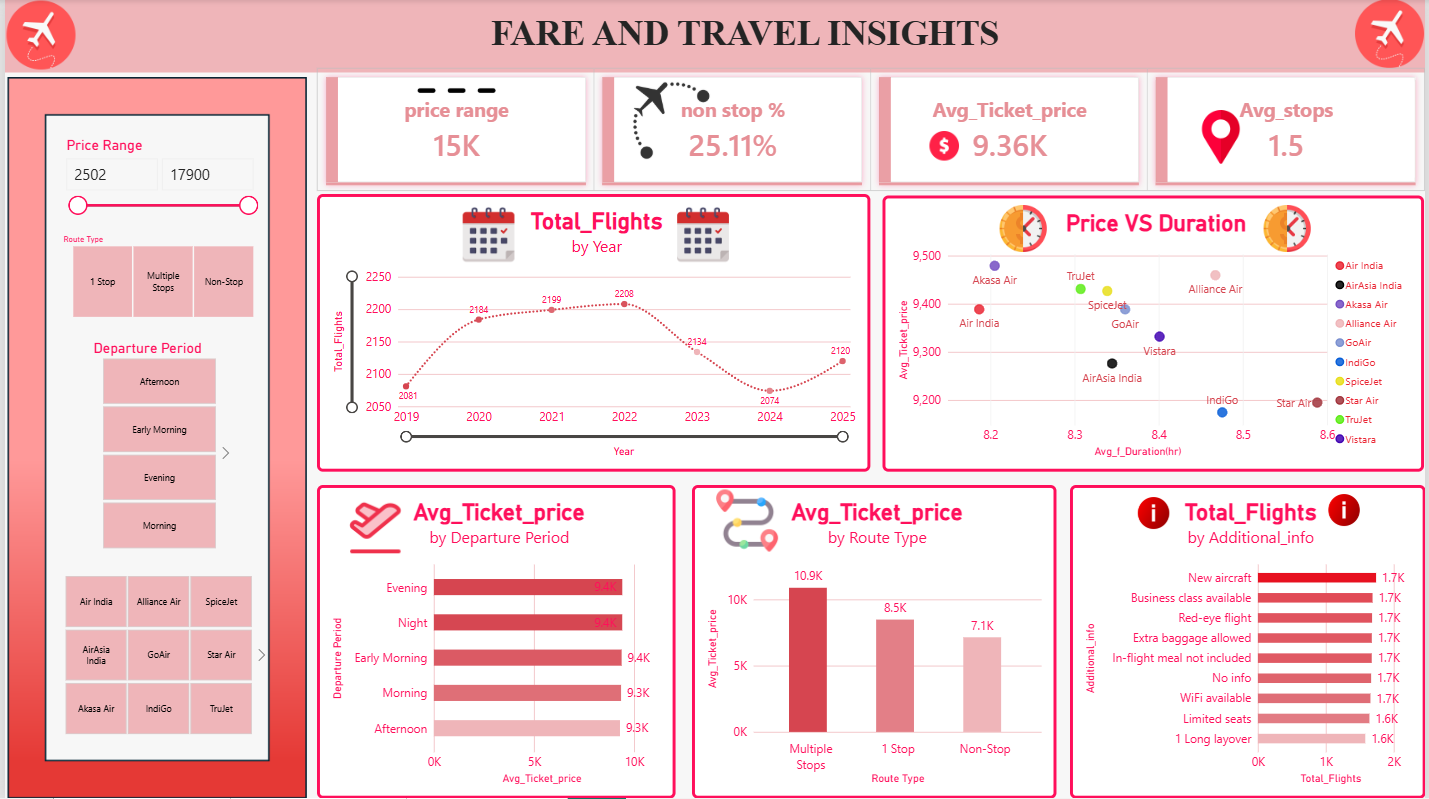

What the dashboard file says about the page in this screenshot:
{"tool":"powerbi","page":{"name":"fare analysis","canvas":[1920,1080],"ordinal":2},"visuals":[{"type":"textbox","box":[0,0,2000.5,99.1],"z":0},{"type":"image","box":[0,2,97.7,93.1],"z":1000},{"type":"image","box":[1822.8,0,97.7,93.1],"z":2000},{"type":"cardVisual","fields":{"Data":["flights.price range","flights.non stop %","flights.Avg_Ticket_price","flights.Avg_stops"]},"box":[421.7,93.3,1498.4,166.3],"z":3000},{"type":"image","box":[2,105.4,407.5,975.3],"z":4000},{"type":"scatterChart","title":"Price VS Duration","fields":{"X":["flights.Avg_f_Duration(hr)"],"Series":["flights.Airline"],"Y":["flights.Avg_Ticket_price"]},"box":[1186.1,265.6,732,373.1],"z":5000},{"type":"columnChart","fields":{"Category":["flights.Route Type"],"Y":["flights.Avg_Ticket_price"]},"box":[928.6,656.9,492.7,423.8],"z":6000},{"type":"barChart","fields":{"Category":["flights.Departure Period"],"Y":["flights.Avg_Ticket_price"]},"box":[421.7,656.9,484.6,423.8],"z":7000},{"type":"barChart","fields":{"Category":["flights.Additional_info"],"Y":["flights.Total_Flights"]},"box":[1439.6,656.9,480.5,423.8],"z":8000},{"type":"lineChart","fields":{"Category":["calendar.Date.Variation.Date Hierarchy.Year","calendar.Date.Variation.Date Hierarchy.Quarter","calendar.Date.Variation.Date Hierarchy.Month","calendar.Date.Variation.Date Hierarchy.Day"],"Y":["flights.Total_Flights"]},"box":[421.7,263.6,748.2,375.1],"z":9000},{"type":"slicer","fields":{"Values":["flights.Price"]},"box":[75,186.5,270.3,140.8],"z":10000},{"type":"slicer","fields":{"Values":["flights.Route Type"]},"box":[71,318.3,283.9,113.5],"z":11000},{"type":"slicer","fields":{"Values":["flights.Departure Period"]},"box":[111.5,460.3,192.6,283.9],"z":12000},{"type":"slicer","fields":{"Values":["flights.Airline"]},"box":[60.8,744.1,292,251.4],"z":13000},{"type":"image","box":[525.1,68.9,170.3,109],"z":14000},{"type":"image","box":[845.5,105.4,109,115.8],"z":15000},{"type":"image","box":[1242.9,178.4,52.9,40],"z":16000},{"type":"image","box":[1605.8,150,75,72.7],"z":17000},{"type":"image","box":[611,279.4,86.3,77.2],"z":18000},{"type":"image","box":[899.4,279.4,86.3,77.2],"z":19000},{"type":"image","box":[1342.3,263.5,68.1,93.1],"z":20000},{"type":"image","box":[1698.9,263.5,68.1,93.1],"z":21000},{"type":"image","box":[438.4,672.3,124.9,84],"z":22000},{"type":"image","box":[961.1,656.9,84,95.4],"z":23000},{"type":"image","box":[1768,669.1,84,43.2],"z":24000},{"type":"image","box":[1510.5,673.2,84,43.2],"z":25000}]}

Visuals, with their boxes in screenshot pixels (x1, y1, x2, y2), scaled from the page's 1920x1080 canvas onto the 1429x799 screenshot:
textbox: (left=0, top=0, right=1428, bottom=73)
image: (left=0, top=1, right=73, bottom=70)
image: (left=1357, top=0, right=1428, bottom=69)
cardVisual - flights.price range x flights.non stop %: (left=314, top=69, right=1428, bottom=192)
image: (left=1, top=78, right=305, bottom=798)
"Price VS Duration" scatterChart: (left=883, top=196, right=1428, bottom=473)
columnChart - flights.Route Type x flights.Avg_Ticket_price: (left=691, top=486, right=1058, bottom=798)
barChart - flights.Departure Period x flights.Avg_Ticket_price: (left=314, top=486, right=675, bottom=798)
barChart - flights.Additional_info x flights.Total_Flights: (left=1071, top=486, right=1428, bottom=798)
lineChart - calendar.Date.Variation.Date Hierarchy.Year x calendar.Date.Variation.Date Hierarchy.Quarter: (left=314, top=195, right=871, bottom=473)
slicer - flights.Price: (left=56, top=138, right=257, bottom=242)
slicer - flights.Route Type: (left=53, top=235, right=264, bottom=319)
slicer - flights.Departure Period: (left=83, top=341, right=226, bottom=551)
slicer - flights.Airline: (left=45, top=550, right=263, bottom=736)
image: (left=391, top=51, right=518, bottom=132)
image: (left=629, top=78, right=710, bottom=164)
image: (left=925, top=132, right=964, bottom=162)
image: (left=1195, top=111, right=1251, bottom=165)
image: (left=455, top=207, right=519, bottom=264)
image: (left=669, top=207, right=734, bottom=264)
image: (left=999, top=195, right=1050, bottom=264)
image: (left=1264, top=195, right=1315, bottom=264)
image: (left=326, top=497, right=419, bottom=560)
image: (left=715, top=486, right=778, bottom=557)
image: (left=1316, top=495, right=1378, bottom=527)
image: (left=1124, top=498, right=1187, bottom=530)
